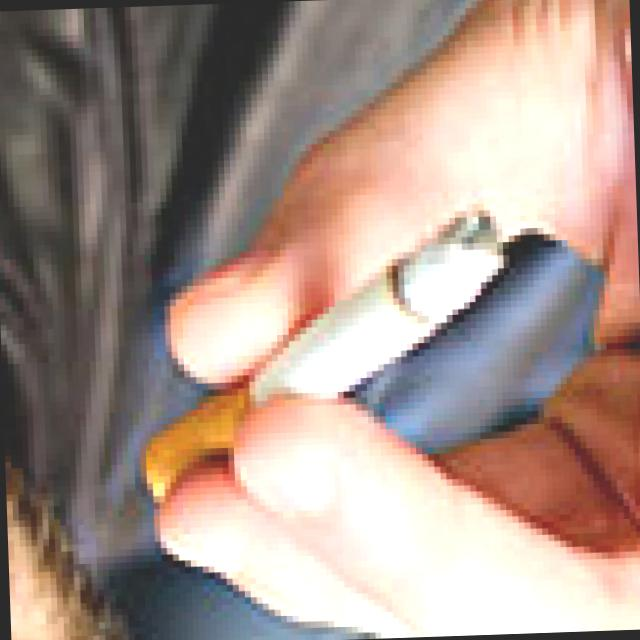smoke: (128, 212, 538, 490)
